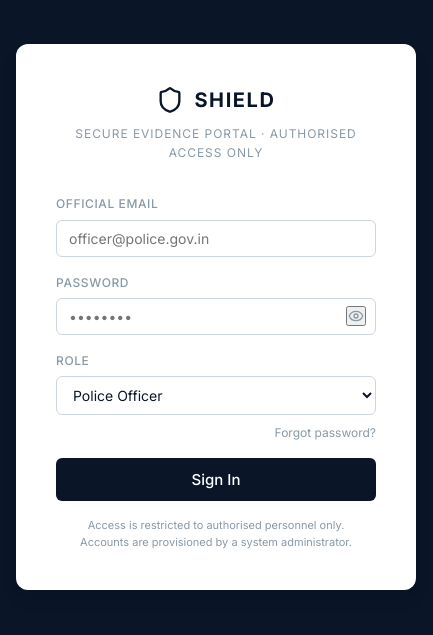
Test: LoginPage › shows server error message on login failure
The width and height of the screenshot is (433, 635).
Type "bad@email.com" into the field labelled "Official Email" at (216, 238), box [56,220,376,256]
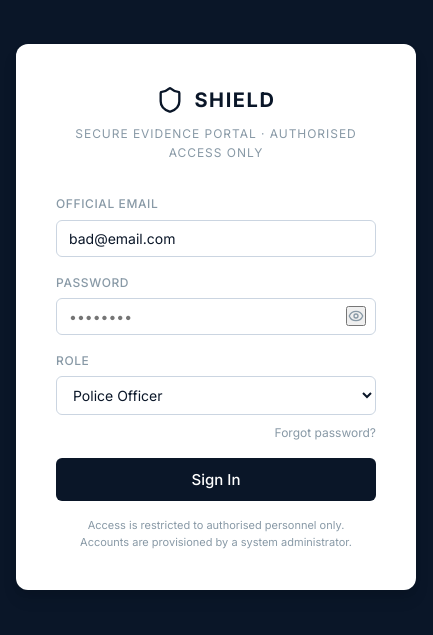
Type "wrongpw" into the password field with placeholder "••••••••" at (216, 316), box [56,298,376,335]
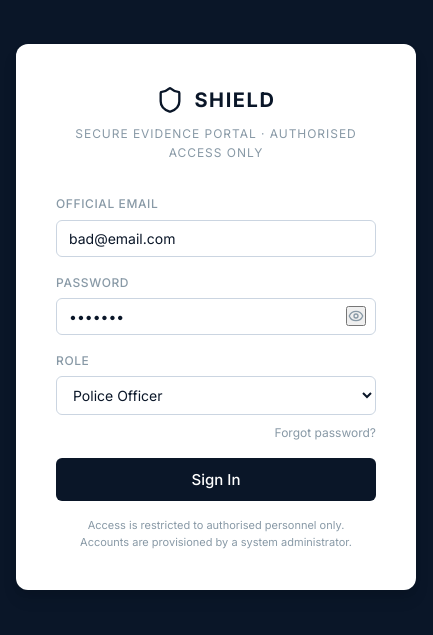
Click the button "Sign In" at (216, 480), box [56,458,376,501]
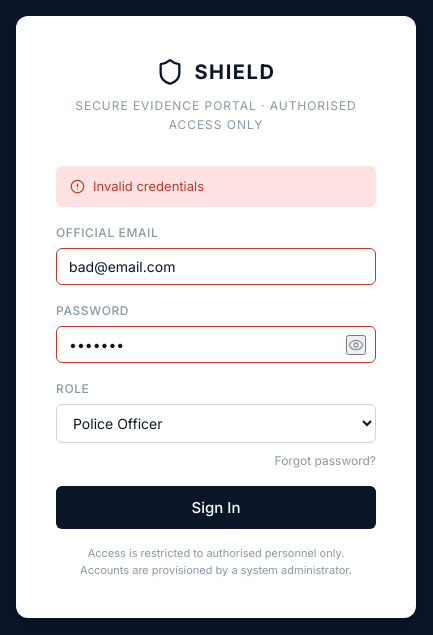
Expected: the message reads "Invalid credentials", [93,178,204,194]
